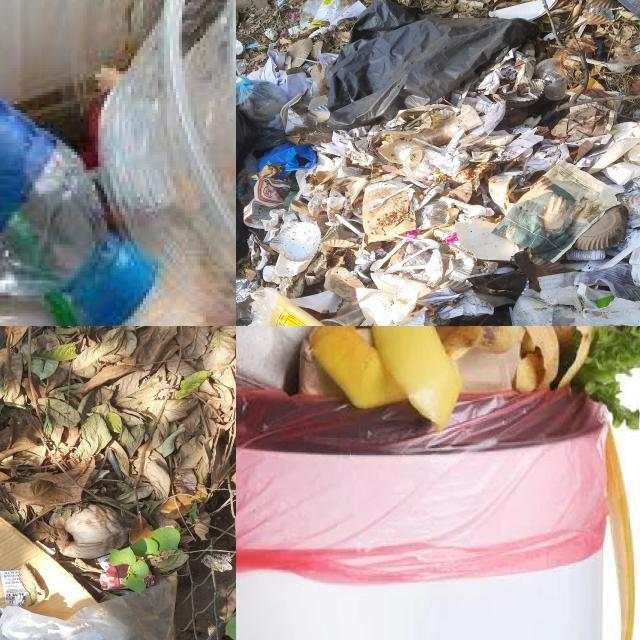Disposable: (101, 0, 236, 282), (377, 105, 484, 177), (361, 182, 417, 242), (361, 183, 417, 243), (588, 123, 640, 174), (574, 206, 628, 251), (287, 96, 331, 144), (269, 222, 321, 261), (297, 154, 337, 197), (323, 266, 363, 302), (534, 58, 568, 100), (439, 243, 474, 282), (504, 79, 548, 108), (369, 239, 407, 272), (439, 197, 494, 218), (490, 1, 546, 20), (321, 303, 365, 326), (415, 201, 448, 230), (486, 272, 528, 294), (584, 0, 618, 25), (323, 225, 359, 248), (586, 58, 640, 73), (287, 39, 313, 69), (307, 192, 329, 225), (411, 138, 448, 156), (401, 237, 439, 248), (564, 48, 582, 61), (291, 200, 309, 213), (546, 0, 558, 8), (510, 306, 514, 326)
Garbage: (236, 0, 640, 326), (0, 326, 236, 640), (236, 326, 640, 428)
Plastic_Bag: (325, 0, 534, 129), (236, 78, 317, 172), (71, 577, 178, 640), (0, 607, 105, 640), (247, 288, 326, 326), (582, 299, 640, 326), (458, 308, 512, 326), (580, 78, 622, 99), (106, 449, 124, 479), (592, 100, 622, 112), (566, 88, 578, 96), (265, 269, 271, 273)
Plastic_bottle: (0, 100, 156, 326)
Plastic_wraper: (96, 556, 128, 590), (236, 278, 259, 321), (299, 0, 323, 26), (313, 0, 337, 20), (3, 589, 27, 604), (144, 572, 156, 587), (136, 556, 146, 560)
Thermocol: (512, 272, 611, 326), (454, 272, 490, 281), (492, 267, 515, 274)
contaminated_waste: (101, 0, 236, 326), (0, 100, 156, 326)
